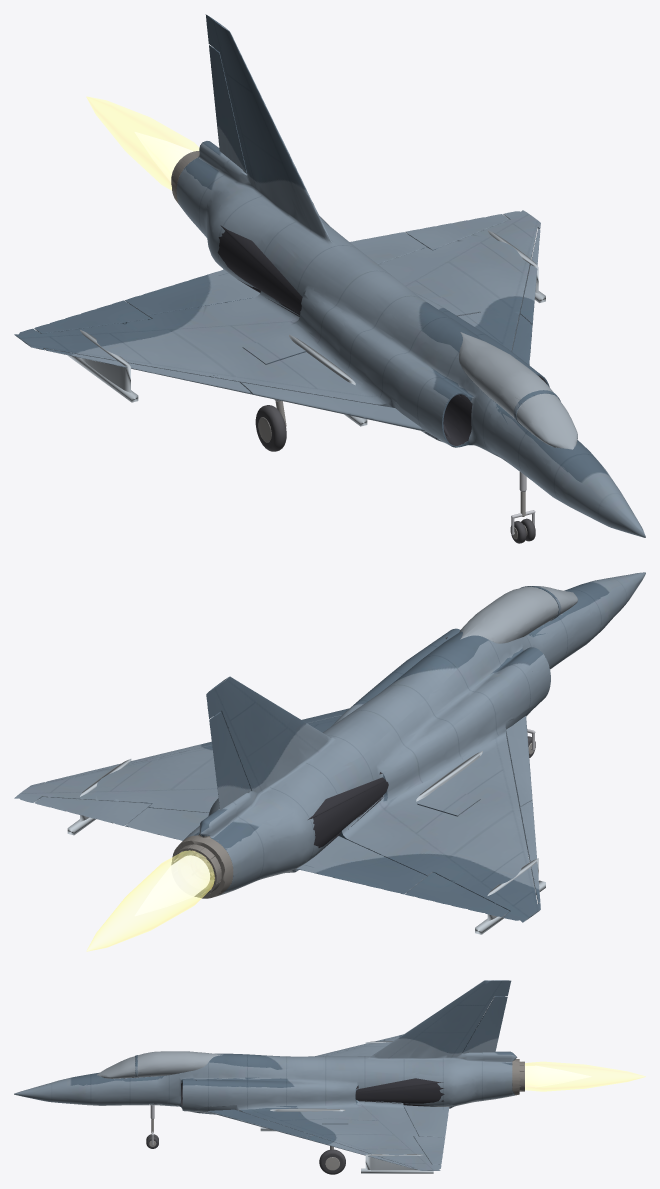
The model's file is mirage2000.glb.
3 views of the same model, one above another, from view 1: azimuth 30°, elevation 25°; view 2: azimuth 150°, elevation 25°; view 3: azimuth 270°, elevation 25° (orthographic). The views are drawn at different scales.
Parts seen in each view (by area): view 1: fsim:section:right-wing, fsim:section:centre, fsim:section:tail, fsim:section:left-wing, fsim:section:nose, fsim:elevator+aileron:-1@-25,25 (×2), fsim:lef@-2,25 (×3), fsim:afterburner:0, fsim:elevator+aileron:1@-25,25 (×2), fsim:rudder, fsim:station:9, fsim:wheel:2:0.375 (+1 smaller); view 2: fsim:section:right-wing, fsim:section:tail, fsim:section:centre, fsim:section:left-wing, fsim:afterburner:0, fsim:elevator+aileron:-1@-25,25 (×2), fsim:section:nose, fsim:elevator+aileron:1@-25,25 (×2), fsim:lef@-2,25 (×2), fsim:rudder, fsim:speedbrake:0.872665, fsim:station:9; view 3: fsim:section:left-wing, fsim:section:tail, fsim:section:centre, fsim:section:nose, fsim:afterburner:0, fsim:elevator+aileron:1@-25,25 (×2), fsim:rudder, fsim:lef@-2,25 (×2), fsim:station:1, fsim:wheel:1:0.375, fsim:section:right-wing, fsim:speedbrake:0.872665 (+1 smaller).
Part boxes in pixels (x1,y1,x2,y2): fsim:section:right-wing: [14, 223, 449, 439]; fsim:section:centre: [304, 244, 560, 477]; fsim:section:tail: [171, 14, 362, 297]; fsim:section:left-wing: [321, 210, 540, 366]; fsim:section:nose: [509, 394, 645, 537]; fsim:elevator+aileron:-1@-25,25 (×2): [34, 269, 259, 333]; fsim:lef@-2,25 (×3): [44, 228, 540, 431]; fsim:afterburner:0: [86, 96, 199, 190]; fsim:elevator+aileron:1@-25,25 (×2): [350, 214, 509, 264]; fsim:rudder: [209, 45, 246, 173]; fsim:station:9: [67, 330, 138, 402]; fsim:wheel:2:0.375: [255, 405, 286, 451]; fsim:section:right-wing: [301, 655, 540, 922]; fsim:section:tail: [172, 676, 382, 898]; fsim:section:centre: [323, 586, 571, 772]; fsim:section:left-wing: [14, 635, 449, 812]; fsim:afterburner:0: [86, 850, 214, 951]; fsim:elevator+aileron:-1@-25,25 (×2): [297, 836, 509, 916]; fsim:section:nose: [535, 572, 645, 661]; fsim:elevator+aileron:1@-25,25 (×2): [35, 797, 208, 840]; fsim:lef@-2,25 (×2): [506, 716, 540, 903]; fsim:rudder: [209, 711, 251, 810]; fsim:speedbrake:0.872665: [417, 786, 480, 816]; fsim:station:9: [475, 858, 545, 934]; fsim:section:left-wing: [193, 1078, 451, 1170]; fsim:section:tail: [345, 980, 519, 1108]; fsim:section:centre: [125, 1051, 364, 1113]; fsim:section:nose: [14, 1057, 142, 1105]; fsim:afterburner:0: [525, 1061, 645, 1091]; fsim:elevator+aileron:1@-25,25 (×2): [403, 1105, 449, 1164]; fsim:rudder: [462, 996, 507, 1053]; fsim:lef@-2,25 (×2): [206, 1109, 414, 1168]; fsim:station:1: [361, 1154, 433, 1173]; fsim:wheel:1:0.375: [319, 1149, 345, 1174]; fsim:section:right-wing: [324, 1035, 401, 1056]; fsim:speedbrake:0.872665: [322, 1111, 348, 1124].
Size of the model in its own units: 9.34 by 5.21 by 17.75.
Materials: 13 (1 with a texture image).
